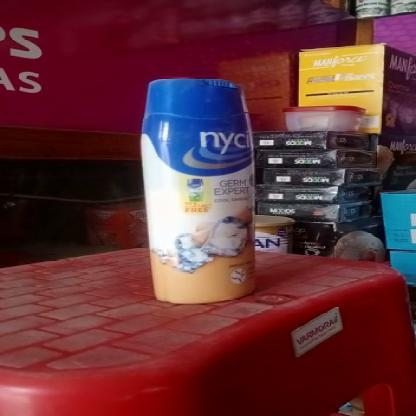Nycil Prickly Heat Powder: (134, 75, 264, 307)
